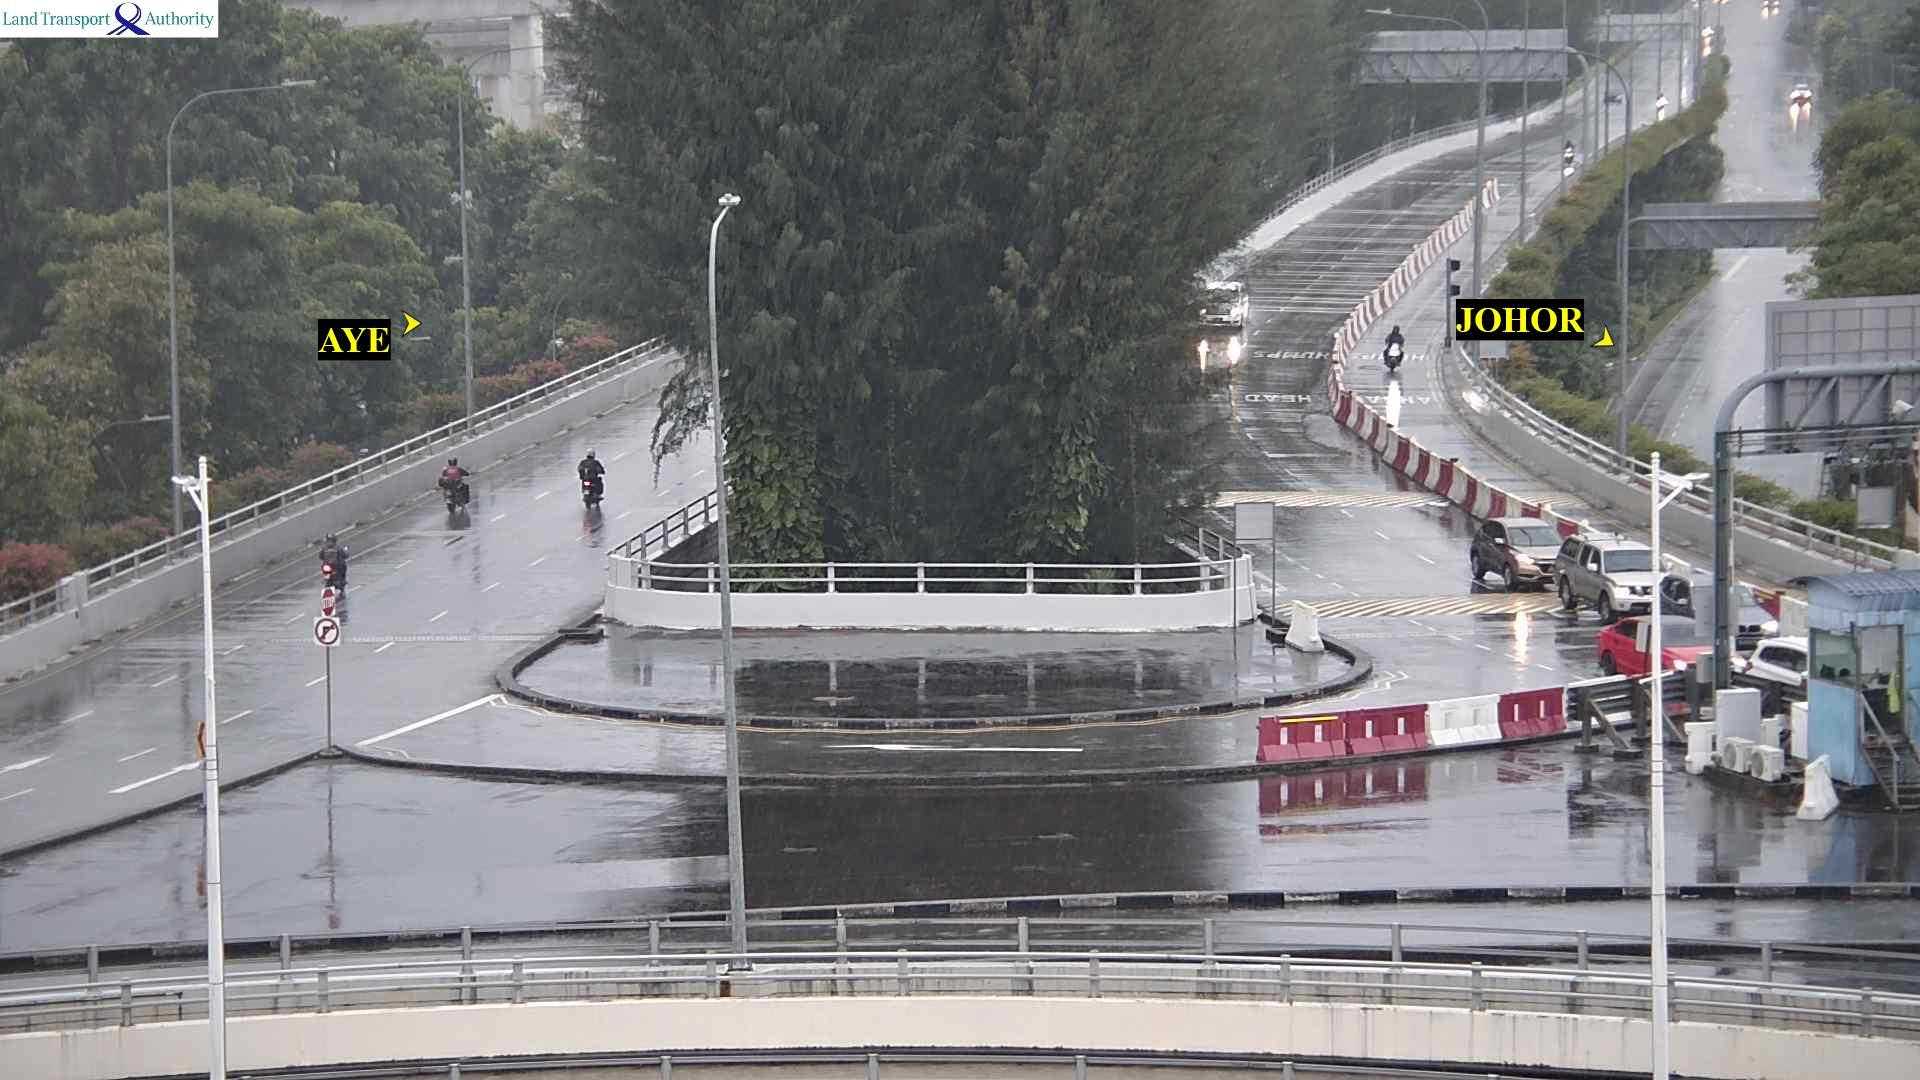vehicle-secondlink-johor: (1593, 617, 1780, 682), (1551, 543, 1702, 612), (1465, 518, 1581, 591), (1553, 541, 1701, 579), (1183, 278, 1250, 328), (1378, 330, 1404, 372)
vehicle-secondlink-singapore: (439, 458, 479, 514), (316, 534, 356, 589), (574, 452, 604, 505), (587, 452, 613, 506)
